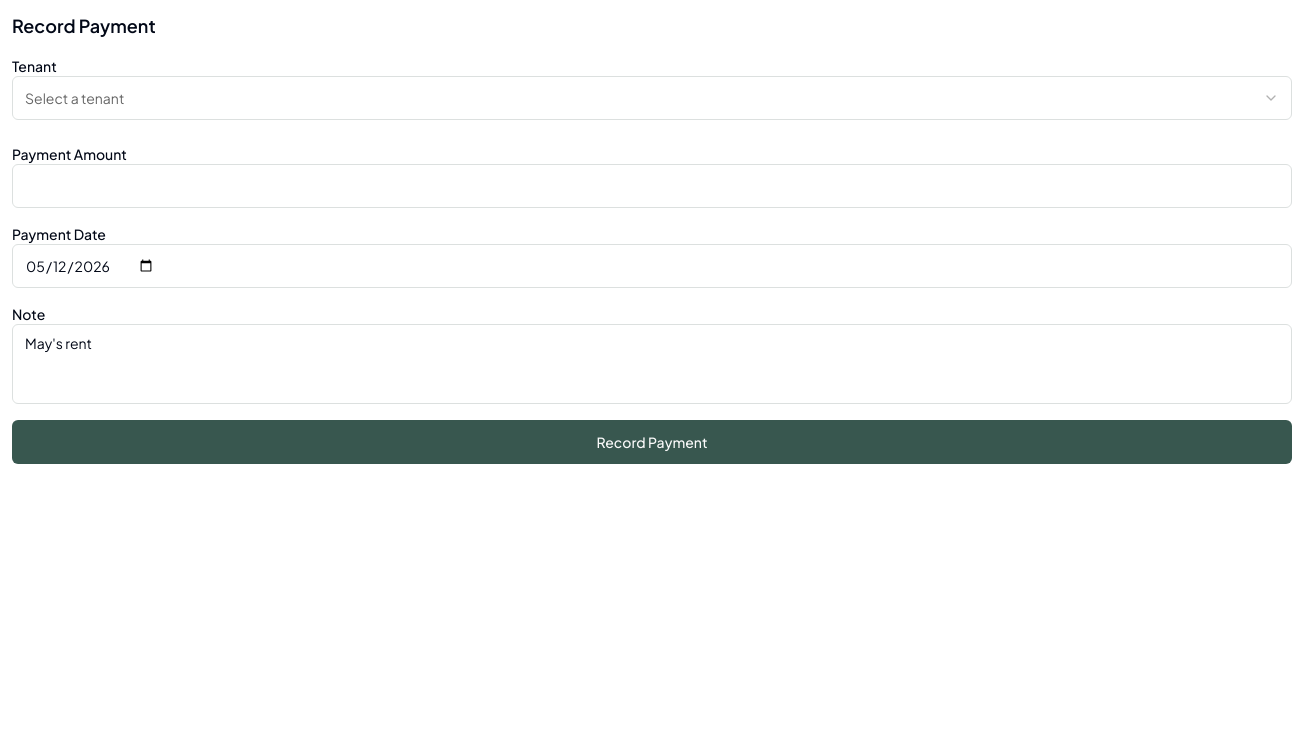
Test: PaymentForm › bad cases › shows validation error when amount is zero or negative
Type "0" into the number field labelled "Payment Amount". click: (652, 186)
box: [12,164,1292,208]
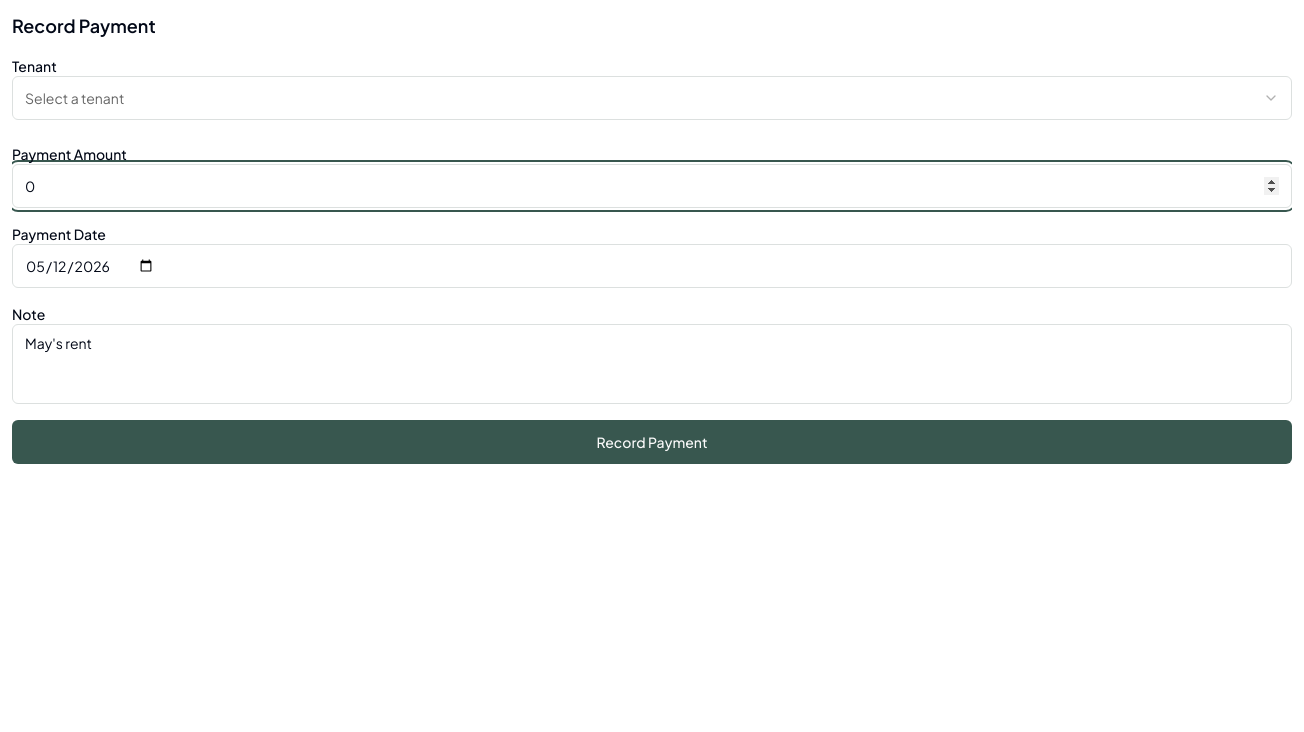
Click the button "Record Payment". click: (652, 442)
box: [12,420,1292,464]
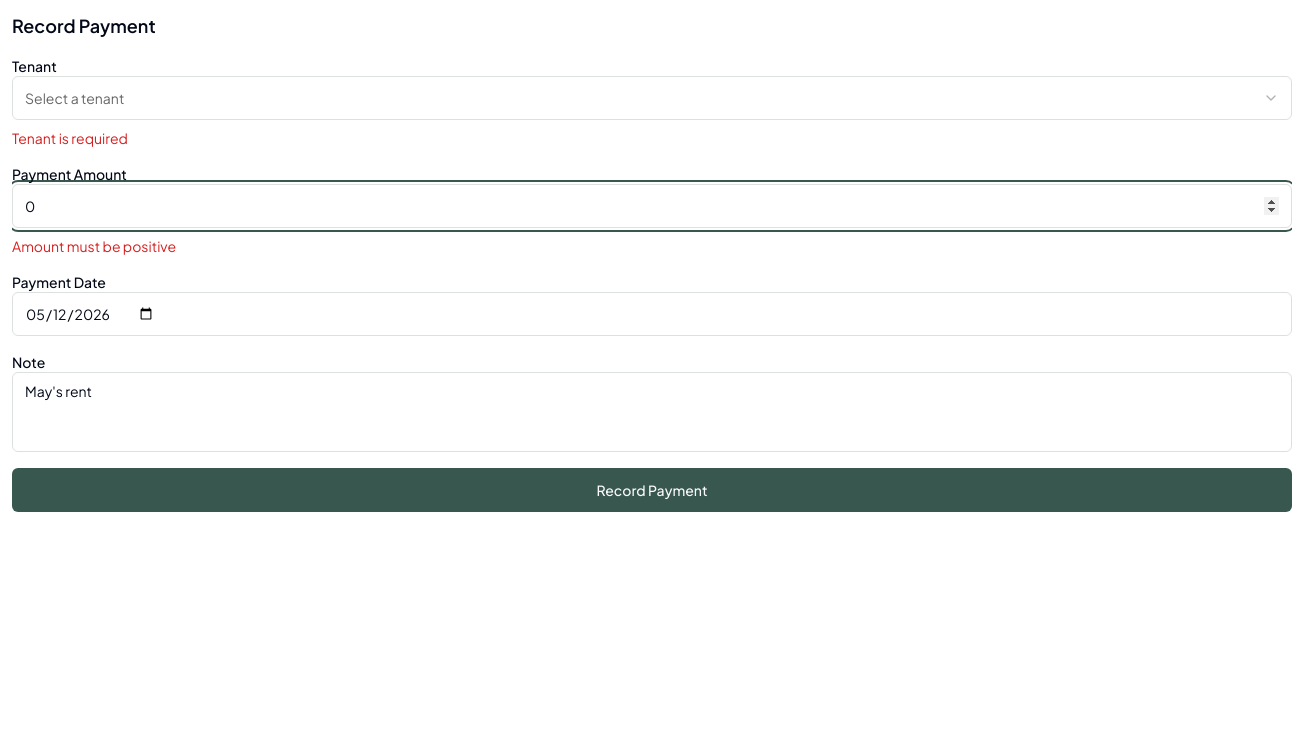
Expected: the text "Amount must be positive" is shown, [12,237,176,255]
